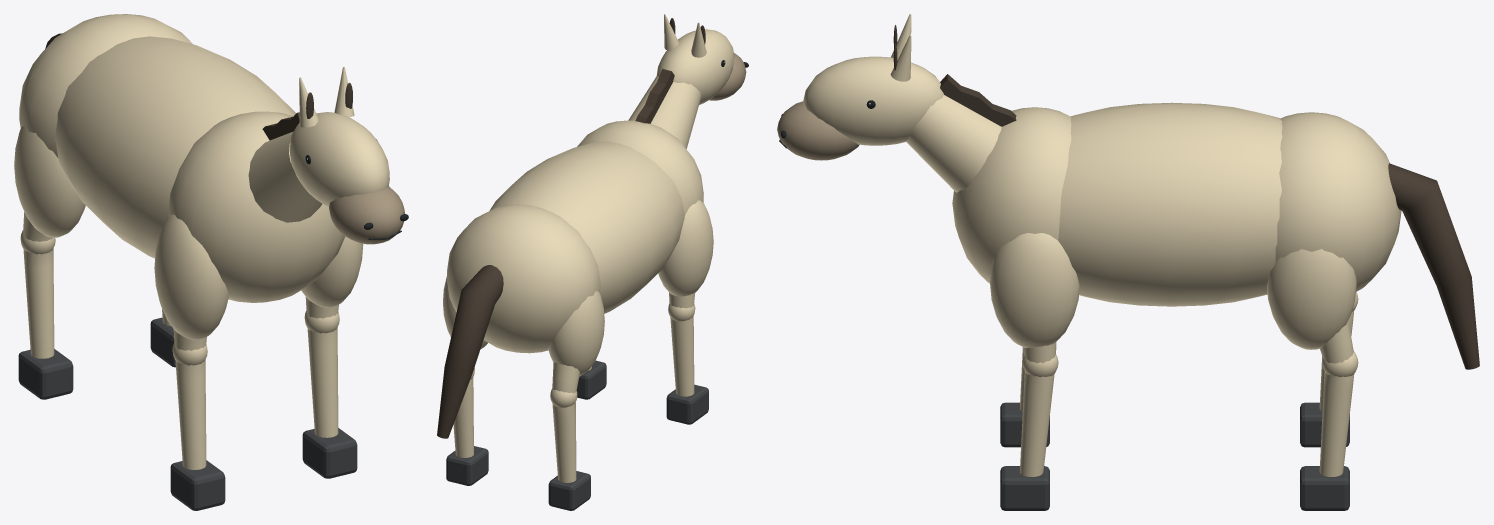
The model's file is animal_horse_cream.glb.
3 renders of one model, left to right at view 1: azimuth 30°, elevation 25°; view 2: azimuth 150°, elevation 25°; view 3: azimuth 270°, elevation 25°, orthographic. The views are drawn at different scales.
Visible parts, largest first — view 1: CreamHorse_Torso, CreamHorse_Chest, CreamHorse_Rump, CreamHorse_Head, CreamHorse_Shoulder, CreamHorse_Haunch, CreamHorse_Neck, CreamHorse_Foreleg.001, CreamHorse_Foreleg, CreamHorse_Hindleg, CreamHorse_Muzzle, CreamHorse_Shoulder.001 (+10 smaller); view 2: CreamHorse_Torso, CreamHorse_Rump, CreamHorse_Hanging_Hair_Tail, CreamHorse_Chest, CreamHorse_Shoulder, CreamHorse_Head, CreamHorse_Haunch, CreamHorse_Hindleg, CreamHorse_Neck, CreamHorse_Foreleg, CreamHorse_Grounded_Hoof, CreamHorse_Grounded_Hoof.003 (+8 smaller); view 3: CreamHorse_Torso, CreamHorse_Rump, CreamHorse_Chest, CreamHorse_Head, CreamHorse_Shoulder.001, CreamHorse_Hanging_Hair_Tail, CreamHorse_Haunch.001, CreamHorse_Neck, CreamHorse_Hindleg.001, CreamHorse_Foreleg.001, CreamHorse_Muzzle, CreamHorse_Grounded_Hoof.003 (+4 smaller).
Boxes of the visible parts, left/top/right/bottom form: CreamHorse_Torso: left=55, top=36, right=296, bottom=258; CreamHorse_Chest: left=168, top=111, right=345, bottom=302; CreamHorse_Rump: left=19, top=14, right=192, bottom=157; CreamHorse_Head: left=289, top=112, right=389, bottom=207; CreamHorse_Shoulder: left=154, top=214, right=228, bottom=340; CreamHorse_Haunch: left=14, top=126, right=85, bottom=237; CreamHorse_Neck: left=248, top=132, right=322, bottom=222; CreamHorse_Foreleg.001: left=305, top=297, right=338, bottom=437; CreamHorse_Foreleg: left=173, top=329, right=206, bottom=469; CreamHorse_Hindleg: left=23, top=212, right=54, bottom=358; CreamHorse_Muzzle: left=329, top=186, right=404, bottom=244; CreamHorse_Shoulder.001: left=301, top=236, right=363, bottom=307; CreamHorse_Torso: left=489, top=141, right=684, bottom=313; CreamHorse_Rump: left=447, top=204, right=600, bottom=353; CreamHorse_Hanging_Hair_Tail: left=437, top=265, right=503, bottom=438; CreamHorse_Chest: left=577, top=120, right=703, bottom=215; CreamHorse_Shoulder: left=658, top=200, right=713, bottom=296; CreamHorse_Head: left=656, top=29, right=734, bottom=104; CreamHorse_Haunch: left=548, top=291, right=604, bottom=376; CreamHorse_Hindleg: left=552, top=362, right=579, bottom=482; CreamHorse_Neck: left=628, top=76, right=701, bottom=148; CreamHorse_Foreleg: left=669, top=292, right=694, bottom=396; CreamHorse_Grounded_Hoof: left=666, top=384, right=708, bottom=424; CreamHorse_Grounded_Hoof.003: left=446, top=446, right=488, bottom=485; CreamHorse_Torso: left=1058, top=102, right=1282, bottom=306; CreamHorse_Rump: left=1275, top=112, right=1401, bottom=291; CreamHorse_Chest: left=952, top=107, right=1071, bottom=283; CreamHorse_Head: left=803, top=56, right=943, bottom=145; CreamHorse_Shoulder.001: left=990, top=233, right=1079, bottom=347; CreamHorse_Hanging_Hair_Tail: left=1388, top=163, right=1479, bottom=369; CreamHorse_Haunch.001: left=1267, top=249, right=1356, bottom=349; CreamHorse_Neck: left=906, top=95, right=1001, bottom=192; CreamHorse_Hindleg.001: left=1319, top=321, right=1354, bottom=476; CreamHorse_Foreleg.001: left=1020, top=342, right=1056, bottom=476; CreamHorse_Muzzle: left=777, top=101, right=859, bottom=160; CreamHorse_Grounded_Hoof.003: left=1300, top=466, right=1349, bottom=510.
Size of the model in its own units: 0.734 by 1.65 by 2.34.
